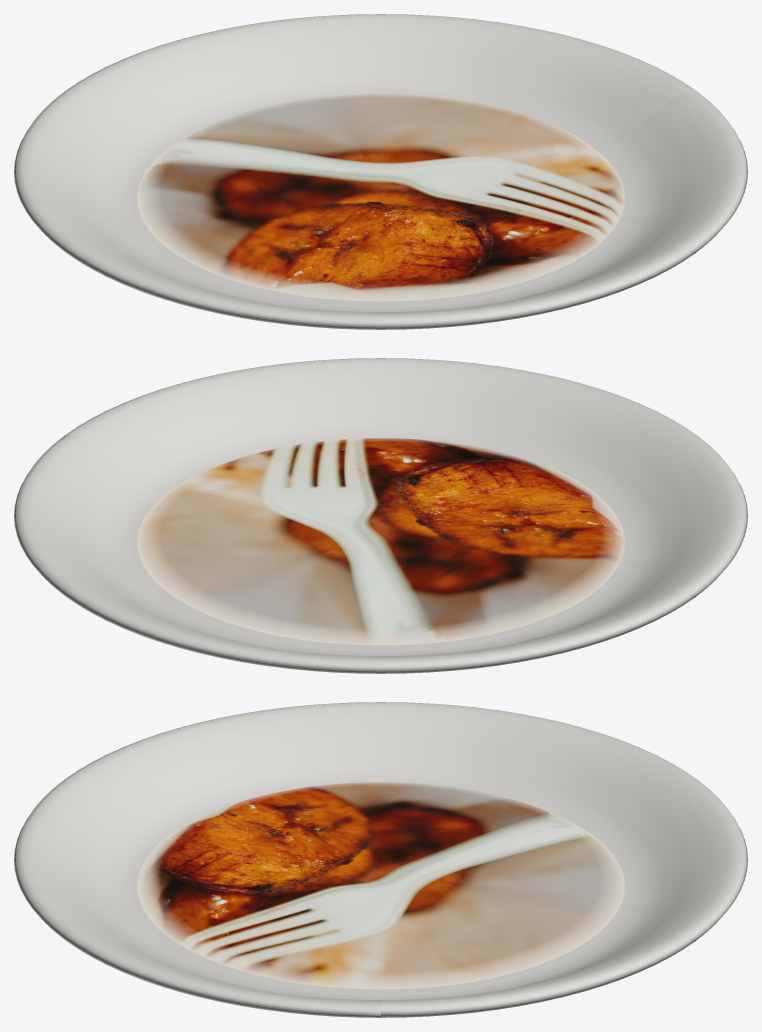
Rendered from alloco.glb.
3 renders of one model, top to bottom at view 1: azimuth 30°, elevation 25°; view 2: azimuth 150°, elevation 25°; view 3: azimuth 270°, elevation 25°, orthographic.
Visible parts, largest first — view 1: assiette, plat; view 2: assiette, plat; view 3: assiette, plat.
Part boxes in pixels (x1=…): assiette: x1=14, y1=14, x2=747, y2=329; plat: x1=137, y1=94, x2=624, y2=301; assiette: x1=14, y1=358, x2=747, y2=673; plat: x1=137, y1=438, x2=624, y2=645; assiette: x1=14, y1=702, x2=747, y2=1017; plat: x1=137, y1=782, x2=624, y2=989.
Size of the model in its own units: 0.301 by 0.0232 by 0.301.
2 materials, 1 textured.
